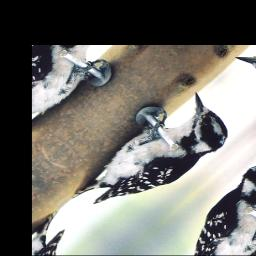Woodpecker: (64, 84, 241, 238)
